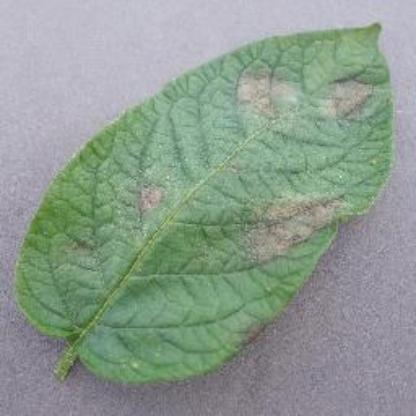Late-Blight: (18, 22, 396, 384)
